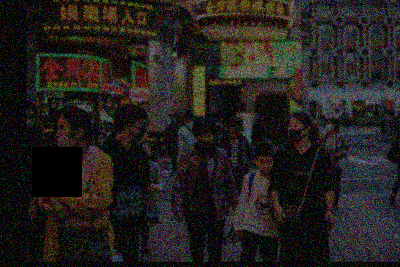mask_weared_incorrect: (55, 121, 76, 151)
with_mask: (196, 128, 215, 150), (287, 119, 307, 139), (129, 119, 147, 140), (27, 110, 36, 127), (324, 119, 335, 132)
without_mask: (257, 156, 275, 172), (231, 126, 241, 137)
